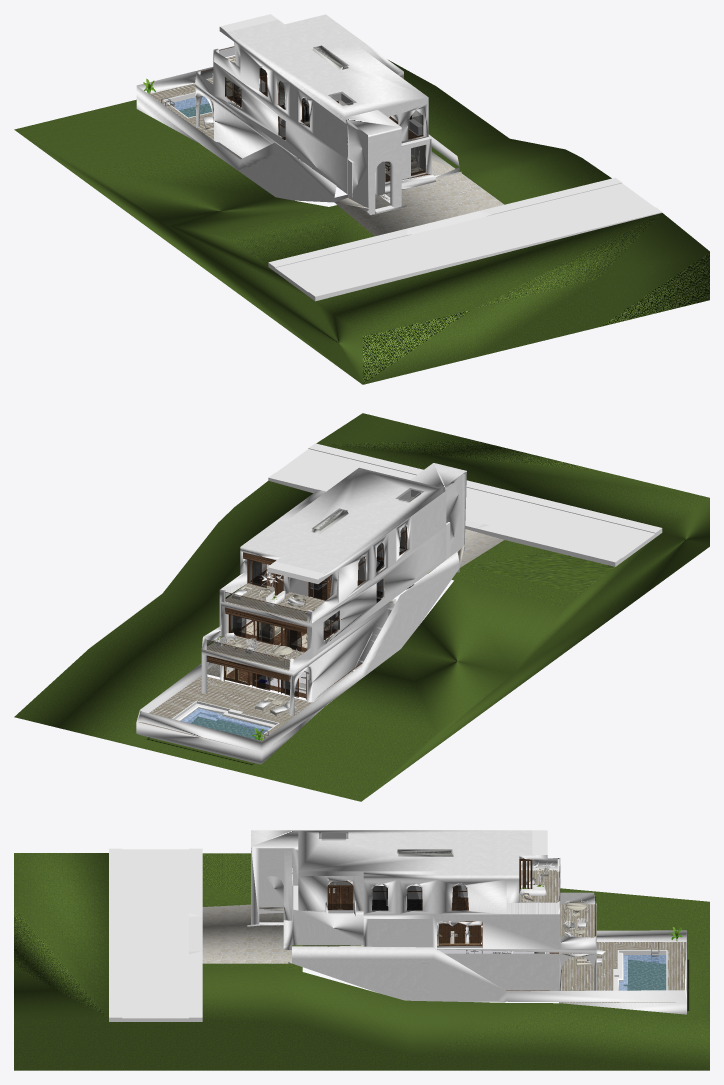
Rendered from house-lite.glb.
3 views of the same model, one above another, from view 1: azimuth 30°, elevation 25°; view 2: azimuth 150°, elevation 25°; view 3: azimuth 270°, elevation 25° (orthographic).
Size of the model in its own units: 1232 by 479 by 2144.
37 materials, 37 textured.
